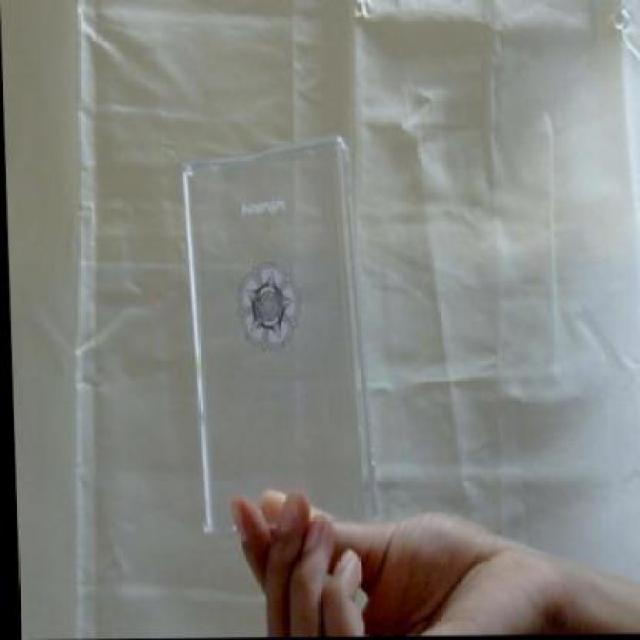Plastic: (178, 125, 392, 539)
